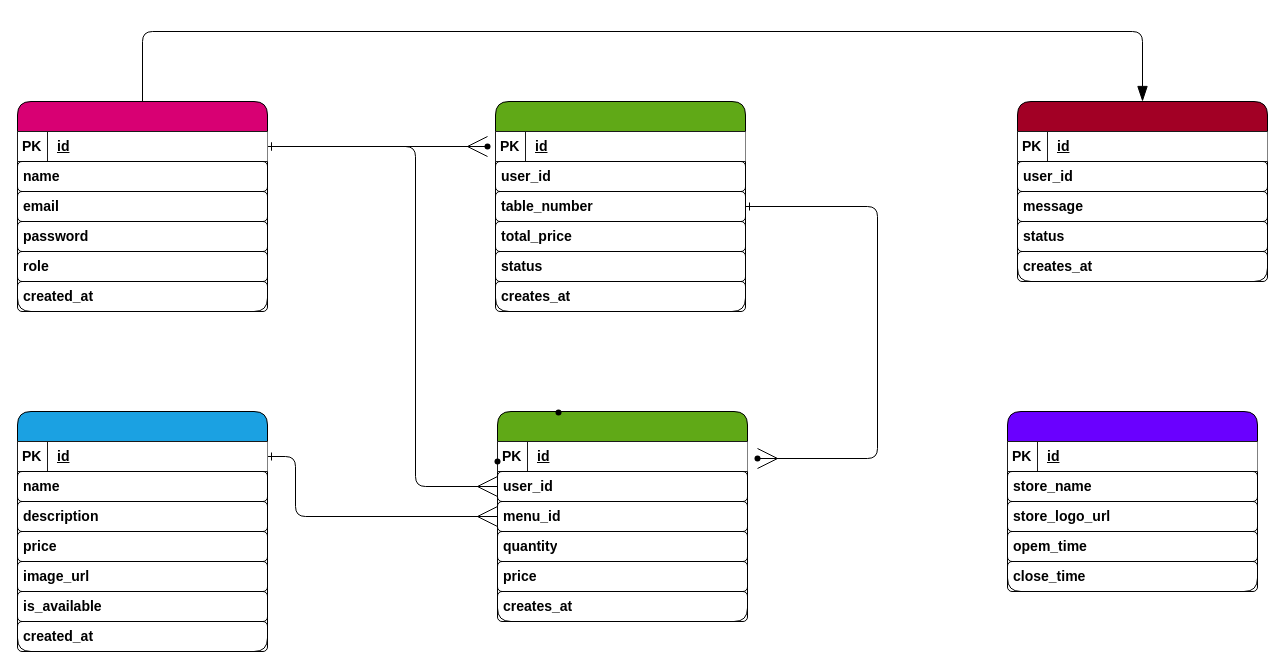
Image size: 1285x669. Some labels were removed from this diagram. The box of each missing label's shape, as (x1, y1, x2, y2) in pixels:
menus: (16, 410, 268, 652)
notifications: (1016, 100, 1268, 282)
orders: (494, 100, 746, 312)
orders_items: (496, 410, 748, 622)
settings: (1006, 410, 1258, 592)
users: (16, 100, 268, 312)
